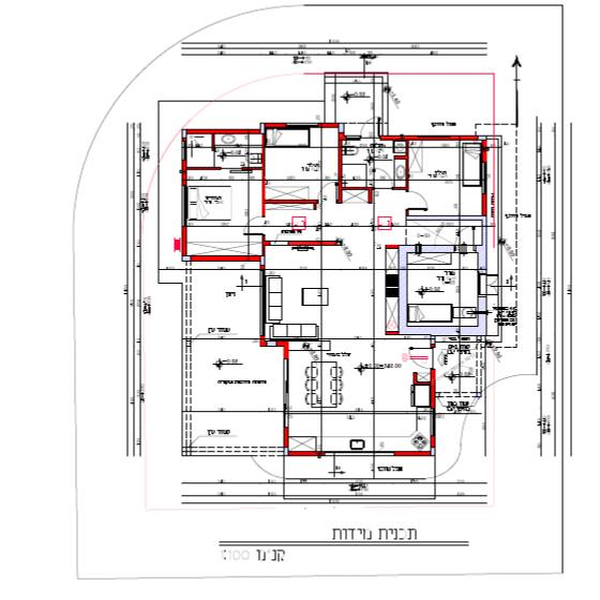room: (280, 338, 438, 454), (183, 125, 268, 261), (261, 240, 350, 352), (377, 135, 492, 221), (390, 244, 487, 336), (263, 118, 344, 206)
